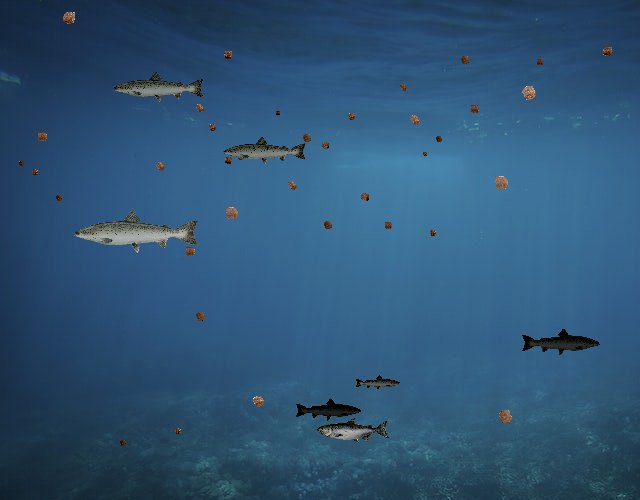Fish: (72, 208, 201, 254), (112, 71, 206, 105), (222, 135, 308, 166), (521, 328, 602, 357), (318, 417, 391, 444), (294, 397, 362, 422), (354, 374, 401, 391)
Pellet: (246, 389, 271, 414), (455, 50, 474, 69), (343, 108, 360, 125), (170, 424, 185, 439), (116, 436, 130, 450), (426, 226, 440, 240), (28, 165, 42, 179)
